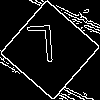L: (25, 25, 57, 73)
